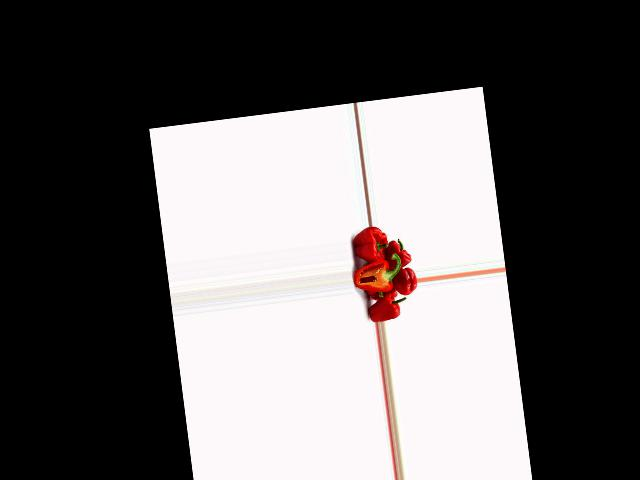bell_pepper: (385, 237, 412, 270)
